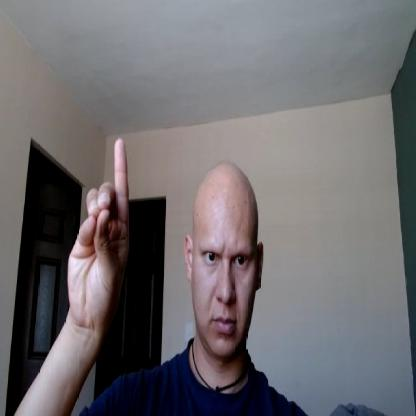D: (68, 139, 134, 325)
